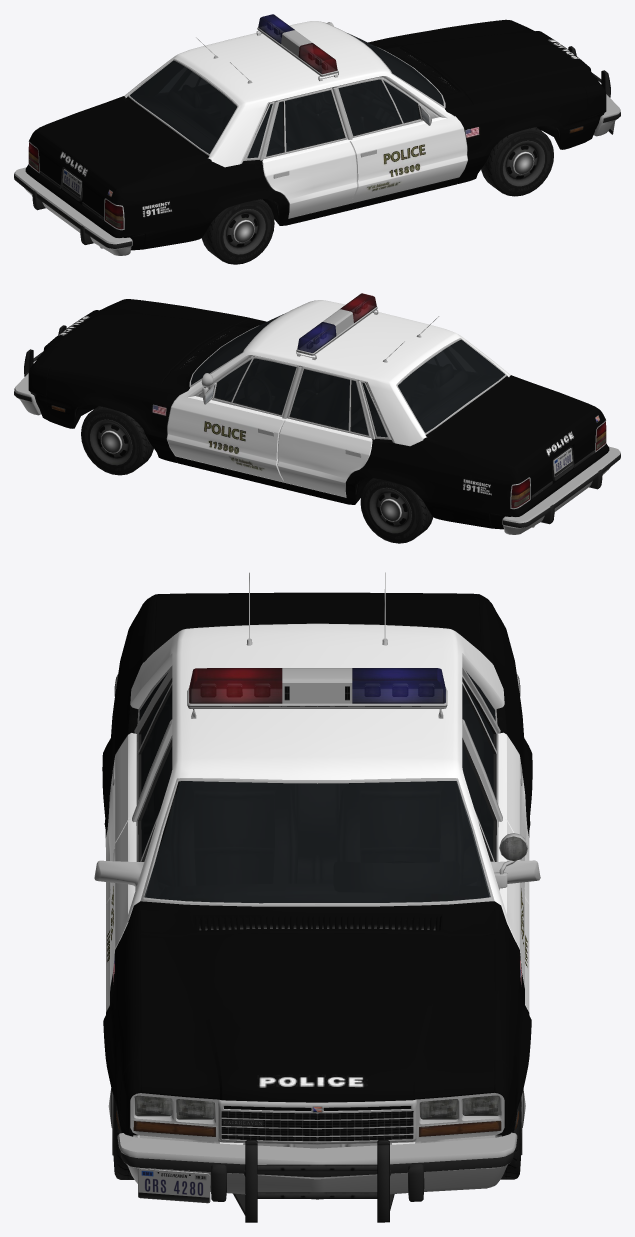
File: cop.gltf
3 renders of one model, top to bottom at view 1: azimuth 30°, elevation 25°; view 2: azimuth 150°, elevation 25°; view 3: azimuth 270°, elevation 25°, orthographic. The views are drawn at different scales.
Visible parts, largest first — view 1: Fairheaven_LT80_body001_Fairheaven_LT80_Bodymat_0, Fairheaven_LT80_trunk_door001_Fairheaven_LT80_Bodymat_0, Fairheaven_LT80_Hood001_Fairheaven_LT80_Bodymat_0, Fairheaven_LT80_Interior_Trim001_UCB_Interior_Trim_0, Fairheaven_LT80_Glass_Rear001_UCB_Lights_and_Glass_Transpere, Fairheaven_LT80_Interior001_UCB_Interior_Trim_0, Fairheaven_LT80_Glass_Body001_UCB_Lights_and_Glass_Transpere, Fairheaven_LT80_Trim_UCB_BOTTOM_GT_0, Fairheaven_LT80_WheelStamp_FR_RB1c_Tire_1k_0, Fairheaven_LT80_WheelStamp_RR_RB1c_Tire_1k_0, Fairheaven_LT80_Glass_Passanger002_UCB_Lights_and_Glass_Tran, Fairheaven_LT80_bumper_rear001_UCB_BOTTOM_GT_0 (+9 smaller); view 2: Fairheaven_LT80_body001_Fairheaven_LT80_Bodymat_0, Fairheaven_LT80_trunk_door001_Fairheaven_LT80_Bodymat_0, Fairheaven_LT80_Hood001_Fairheaven_LT80_Bodymat_0, Fairheaven_LT80_Interior_Trim001_UCB_Interior_Trim_0, Fairheaven_LT80_Interior001_UCB_Interior_Trim_0, Fairheaven_LT80_Glass_Rear001_UCB_Lights_and_Glass_Transpere, Fairheaven_LT80_Glass_Body001_UCB_Lights_and_Glass_Transpere, Fairheaven_LT80_Trim_UCB_BOTTOM_GT_0, Fairheaven_LT80_WheelStamp_FL_RB1c_Tire_1k_0, Fairheaven_LT80_WheelStamp_RL_RB1c_Tire_1k_0, Fairheaven_LT80_Glass_Driver002_UCB_Lights_and_Glass_Transpe, Fairheaven_LT80_bumper_rear001_UCB_BOTTOM_GT_0 (+9 smaller); view 3: Fairheaven_LT80_body001_Fairheaven_LT80_Bodymat_0, Fairheaven_LT80_Hood001_Fairheaven_LT80_Bodymat_0, Fairheaven_LT80_Interior_Trim001_UCB_Interior_Trim_0, Fairheaven_LT80_Windshield001_UCB_Lights_and_Glass_Transpere, Fairheaven_LT80_Bumper_Front001_UCB_BOTTOM_GT_0, Fairheaven_LT80_Front_Plate_Inner001_UCB_BOTTOM_GT_0, Fairheaven_LT80_trunk_door001_Fairheaven_LT80_Bodymat_0, Fairheaven_LT80_Trim_UCB_BOTTOM_GT_0, Fairheaven_LT80_Lightbar_UCB_BOTTOM_GT_0, Fairheaven_LT80_Lightbar_Glass_UCB_Lights_and_Glass_Transper, Fairheaven_LT80_Headlights_Glass001_UCB_Lights_and_Glass_Tra, Fairheaven_LT80_Bullbar_UCB_BOTTOM_GT_0 (+8 smaller).
Part boxes in pixels (box(x1,y1,x2,y2)): Fairheaven_LT80_body001_Fairheaven_LT80_Bodymat_0: box(25, 21, 588, 250); Fairheaven_LT80_trunk_door001_Fairheaven_LT80_Bodymat_0: box(32, 98, 207, 220); Fairheaven_LT80_Hood001_Fairheaven_LT80_Bodymat_0: box(385, 20, 602, 104); Fairheaven_LT80_Interior_Trim001_UCB_Interior_Trim_0: box(167, 49, 443, 157); Fairheaven_LT80_Glass_Rear001_UCB_Lights_and_Glass_Transpere: box(130, 60, 236, 153); Fairheaven_LT80_Interior001_UCB_Interior_Trim_0: box(130, 45, 442, 153); Fairheaven_LT80_Glass_Body001_UCB_Lights_and_Glass_Transpere: box(160, 68, 344, 158); Fairheaven_LT80_Trim_UCB_BOTTOM_GT_0: box(28, 22, 445, 230); Fairheaven_LT80_WheelStamp_FR_RB1c_Tire_1k_0: box(481, 127, 553, 196); Fairheaven_LT80_WheelStamp_RR_RB1c_Tire_1k_0: box(201, 199, 274, 264); Fairheaven_LT80_Glass_Passanger002_UCB_Lights_and_Glass_Tran: box(338, 79, 419, 135); Fairheaven_LT80_bumper_rear001_UCB_BOTTOM_GT_0: box(14, 167, 132, 255); Fairheaven_LT80_body001_Fairheaven_LT80_Bodymat_0: box(46, 300, 609, 529); Fairheaven_LT80_trunk_door001_Fairheaven_LT80_Bodymat_0: box(427, 377, 602, 499); Fairheaven_LT80_Hood001_Fairheaven_LT80_Bodymat_0: box(32, 299, 249, 383); Fairheaven_LT80_Interior_Trim001_UCB_Interior_Trim_0: box(192, 331, 467, 436); Fairheaven_LT80_Interior001_UCB_Interior_Trim_0: box(193, 324, 504, 432); Fairheaven_LT80_Glass_Rear001_UCB_Lights_and_Glass_Transpere: box(398, 339, 504, 432); Fairheaven_LT80_Glass_Body001_UCB_Lights_and_Glass_Transpere: box(290, 347, 474, 437); Fairheaven_LT80_Trim_UCB_BOTTOM_GT_0: box(189, 301, 606, 509); Fairheaven_LT80_WheelStamp_FL_RB1c_Tire_1k_0: box(81, 406, 153, 475); Fairheaven_LT80_WheelStamp_RL_RB1c_Tire_1k_0: box(360, 478, 433, 543); Fairheaven_LT80_Glass_Driver002_UCB_Lights_and_Glass_Transpe: box(215, 358, 296, 414); Fairheaven_LT80_bumper_rear001_UCB_BOTTOM_GT_0: box(502, 446, 620, 534); Fairheaven_LT80_body001_Fairheaven_LT80_Bodymat_0: box(102, 594, 532, 1124); Fairheaven_LT80_Hood001_Fairheaven_LT80_Bodymat_0: box(140, 933, 494, 1102); Fairheaven_LT80_Interior_Trim001_UCB_Interior_Trim_0: box(144, 705, 490, 903); Fairheaven_LT80_Windshield001_UCB_Lights_and_Glass_Transpere: box(144, 781, 490, 903); Fairheaven_LT80_Bumper_Front001_UCB_BOTTOM_GT_0: box(117, 1132, 517, 1201); Fairheaven_LT80_Front_Plate_Inner001_UCB_BOTTOM_GT_0: box(130, 1093, 504, 1144); Fairheaven_LT80_trunk_door001_Fairheaven_LT80_Bodymat_0: box(154, 592, 480, 651); Fairheaven_LT80_Trim_UCB_BOTTOM_GT_0: box(94, 665, 540, 906); Fairheaven_LT80_Lightbar_UCB_BOTTOM_GT_0: box(187, 668, 447, 718); Fairheaven_LT80_Lightbar_Glass_UCB_Lights_and_Glass_Transper: box(189, 668, 445, 703); Fairheaven_LT80_Headlights_Glass001_UCB_Lights_and_Glass_Tra: box(133, 1095, 501, 1136); Fairheaven_LT80_Bullbar_UCB_BOTTOM_GT_0: box(233, 1139, 394, 1222).
Bounding box in the file's own units: 5.07 × 1.57 × 1.83.
8 materials, 8 textured.
